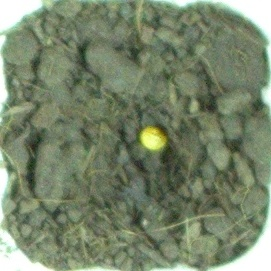chilli seed: (138, 124, 169, 151)
